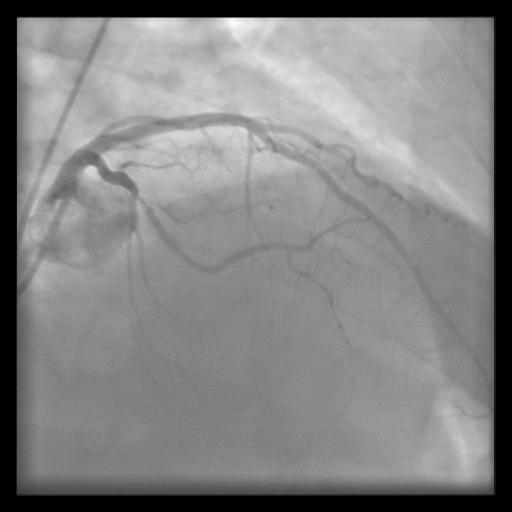Stenosis: (126, 186, 152, 217)
